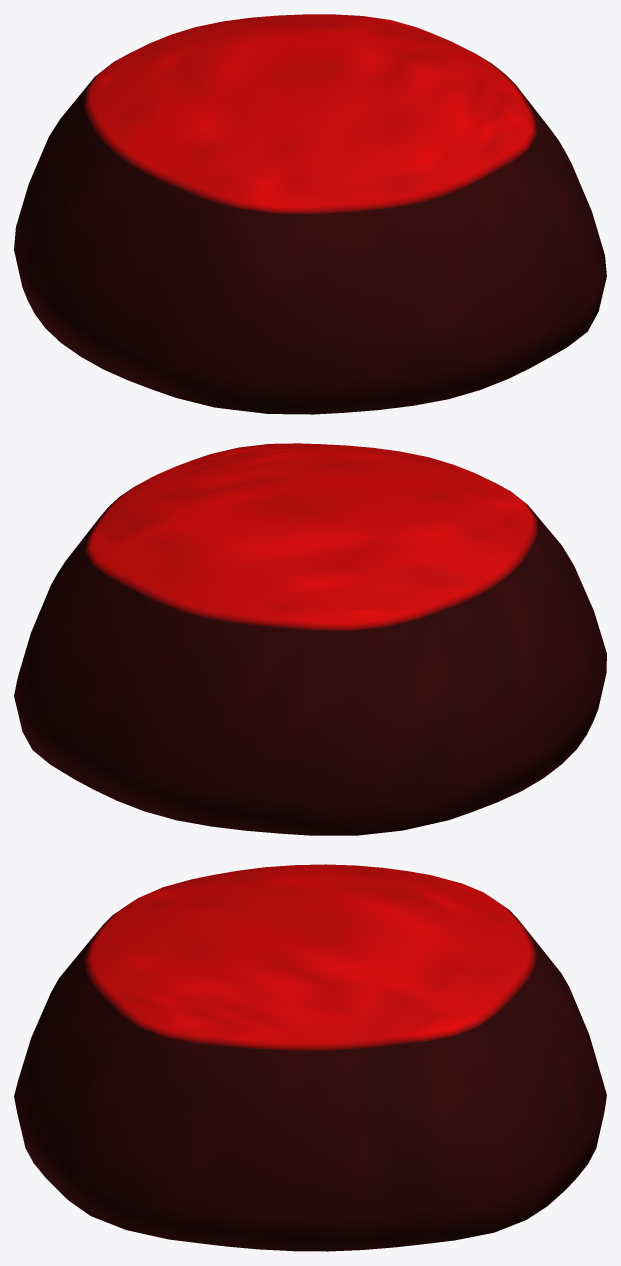
File: geology-landforms-icehillmedium_v1.fbx
3 views of the same model, one above another, from view 1: azimuth 30°, elevation 25°; view 2: azimuth 150°, elevation 25°; view 3: azimuth 270°, elevation 25° (orthographic).
Parts seen in each view (by area): view 1: IceHillMedium_v1; view 2: IceHillMedium_v1; view 3: IceHillMedium_v1.
Part boxes in pixels (x1,y1,x2,y2): IceHillMedium_v1: (14,14,606,414); IceHillMedium_v1: (14,443,606,835); IceHillMedium_v1: (14,864,606,1251).
Size of the model in its own units: 59.72 by 24.47 by 62.56.
